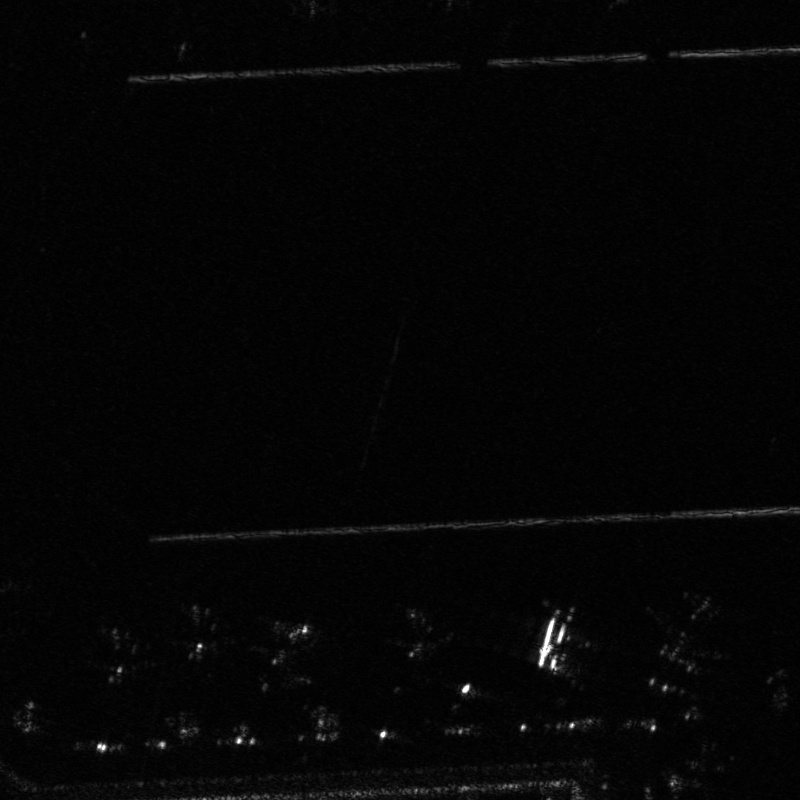A220: (169, 603, 246, 675)
A320/321: (645, 588, 744, 689)
Boeing737: (81, 628, 166, 694)
Boeing787: (519, 604, 601, 681), (379, 604, 454, 682)
other: (252, 618, 317, 694)
